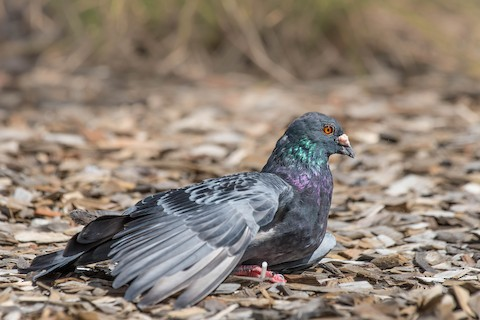pigeon: (20, 99, 357, 305)
